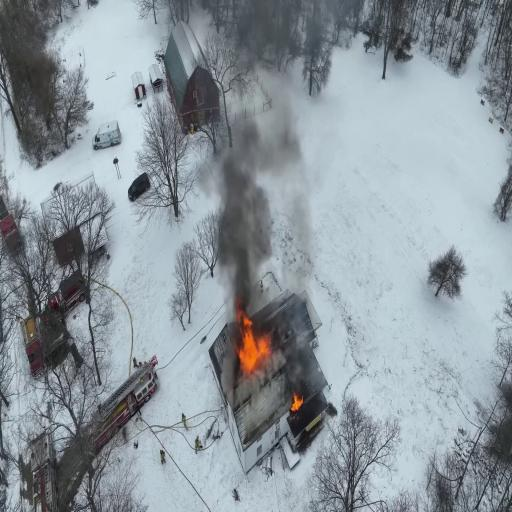fire: (234, 305, 266, 370), (288, 394, 302, 414)
smoke: (232, 177, 270, 282)
